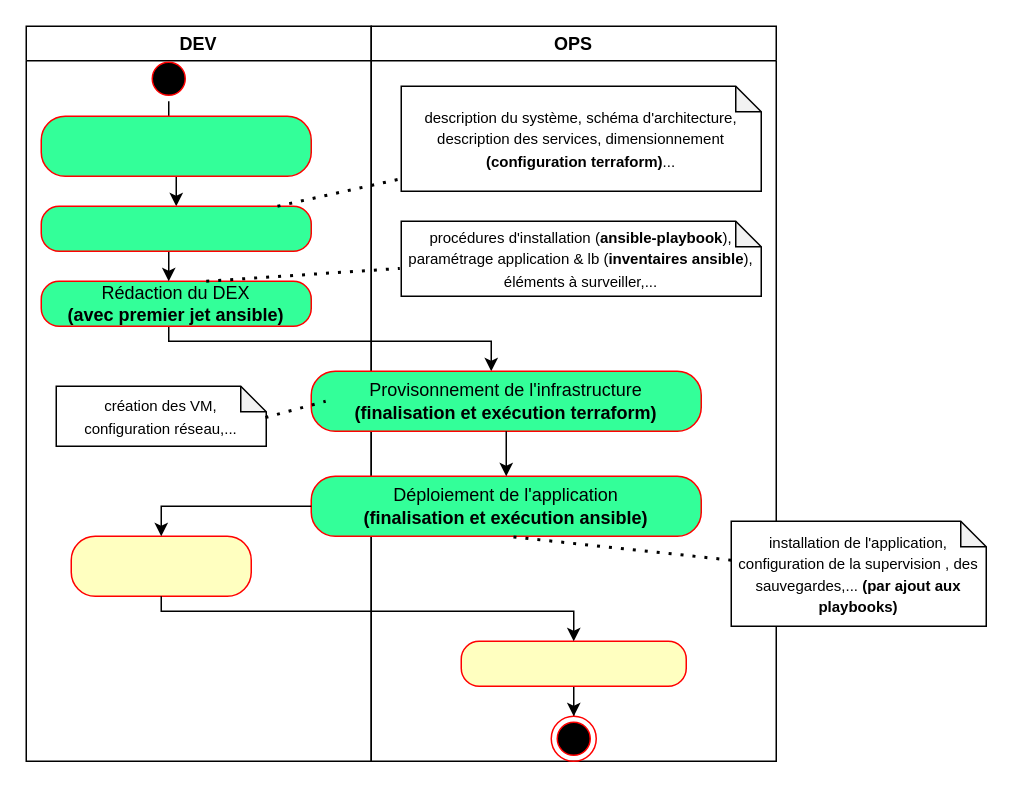
This 1013x788 diagram has some shape labels left out. Each missing label, with the centre of its shape:
Préparation d'une version (avec .deb): (x=175, y=145)
Recette du déploiement: (x=160, y=565)
Rédaction du DAT ( avec premier jet terraform ): (x=175, y=228)
Surveillance du système: (x=573, y=663)
